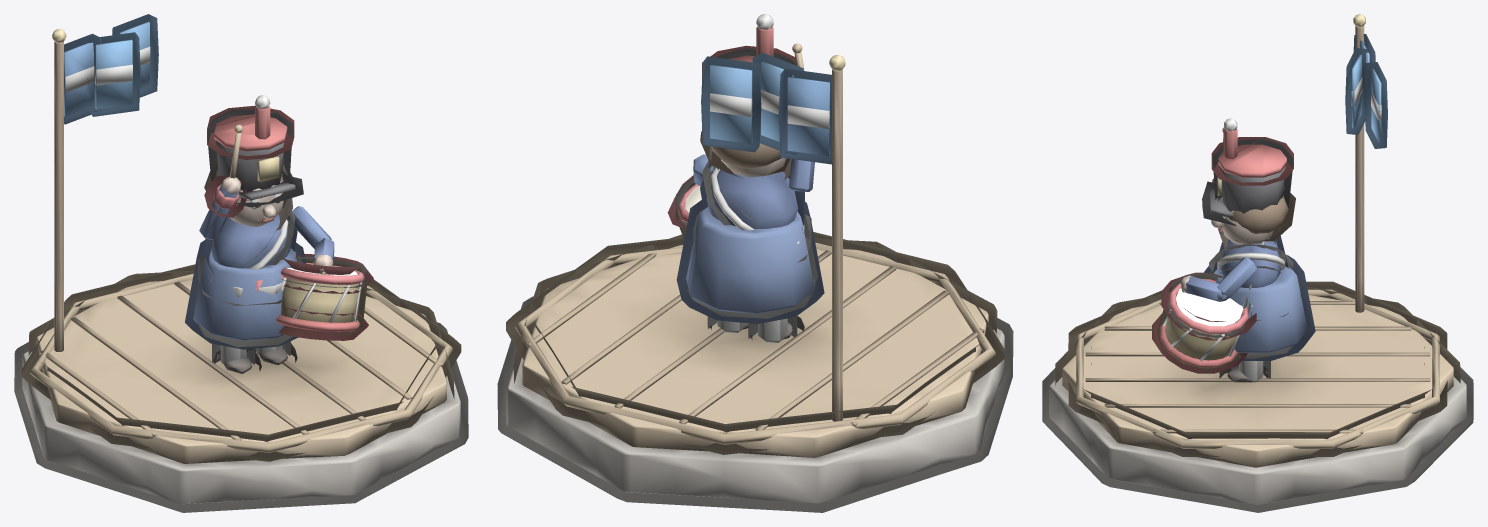
The model's file is war_drummer.glb.
3 views of the same model, side by side, from view 1: azimuth 30°, elevation 25°; view 2: azimuth 150°, elevation 25°; view 3: azimuth 270°, elevation 25° (orthographic). The views are drawn at different scales.
Visible parts, largest first — view 1: M_WarDrummer, M_Body.020, M_WarDrummer_Outline, M_Body.020_Outline, M_Drum, M_FlagPart.001, M_Drum_Outline, M_FlagPart, M_Arm, M_FlagPart.001_Outline, M_FlagPart.002_Outline, M_FlagPart.002 (+1 smaller); view 2: M_WarDrummer, M_Body.020, M_WarDrummer_Outline, M_Body.020_Outline, M_FlagPart, M_FlagPart.002, M_FlagPart.002_Outline, M_FlagPart_Outline, M_FlagPart.001, M_Arm, M_FlagPart.001_Outline; view 3: M_WarDrummer, M_Body.020, M_WarDrummer_Outline, M_Body.020_Outline, M_Drum, M_Drum_Outline, M_Orb, M_FlagPart.002_Outline, M_FlagPart.001_Outline, M_FlagPart.002, M_FlagPart.001, M_Orb_Outline.
Part boxes in pixels (<box>): M_WarDrummer: <box>22,29,460,504</box>; M_Body.020: <box>193,95,334,373</box>; M_WarDrummer_Outline: <box>14,264,468,512</box>; M_Body.020_Outline: <box>185,105,305,371</box>; M_Drum: <box>276,248,364,331</box>; M_FlagPart.001: <box>95,39,132,109</box>; M_Drum_Outline: <box>278,253,373,340</box>; M_FlagPart: <box>64,42,94,116</box>; M_Arm: <box>199,124,243,239</box>; M_FlagPart.001_Outline: <box>87,32,140,116</box>; M_FlagPart.002_Outline: <box>112,14,158,97</box>; M_FlagPart.002: <box>119,21,150,89</box>; M_WarDrummer: <box>506,55,1004,503</box>; M_Body.020: <box>686,14,814,342</box>; M_WarDrummer_Outline: <box>497,232,1013,512</box>; M_Body.020_Outline: <box>676,45,824,339</box>; M_FlagPart: <box>787,77,829,156</box>; M_FlagPart.002: <box>710,64,752,143</box>; M_FlagPart.002_Outline: <box>701,56,761,152</box>; M_FlagPart_Outline: <box>778,68,833,164</box>; M_FlagPart.001: <box>760,61,793,141</box>; M_Arm: <box>789,43,814,191</box>; M_FlagPart.001_Outline: <box>752,53,803,155</box>; M_WarDrummer: <box>1049,14,1466,504</box>; M_Body.020: <box>1181,118,1307,382</box>; M_WarDrummer_Outline: <box>1042,281,1473,512</box>; M_Body.020_Outline: <box>1202,137,1315,378</box>; M_Drum: <box>1160,241,1265,367</box>; M_Drum_Outline: <box>1152,272,1256,373</box>; M_Orb: <box>1176,288,1243,326</box>; M_FlagPart.002_Outline: <box>1364,62,1387,148</box>; M_FlagPart.001_Outline: <box>1345,48,1367,134</box>; M_FlagPart.002: <box>1371,68,1381,142</box>; M_FlagPart.001: <box>1351,54,1362,128</box>; M_Orb_Outline: <box>1167,273,1250,337</box>.
Bounding box in the file's own units: 3.18 × 2.87 × 3.18.
